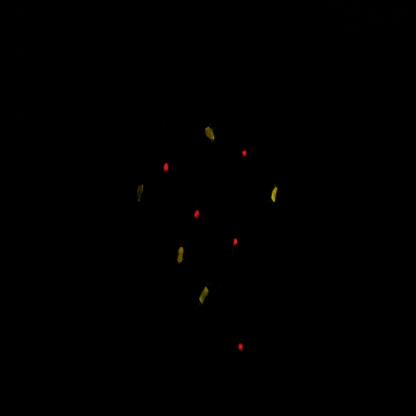PET: (155, 147, 179, 195), (226, 325, 252, 367), (223, 222, 246, 261), (186, 199, 210, 233), (236, 135, 252, 178)
PP: (127, 173, 154, 220), (258, 173, 285, 217), (197, 116, 219, 150), (171, 240, 192, 275)
